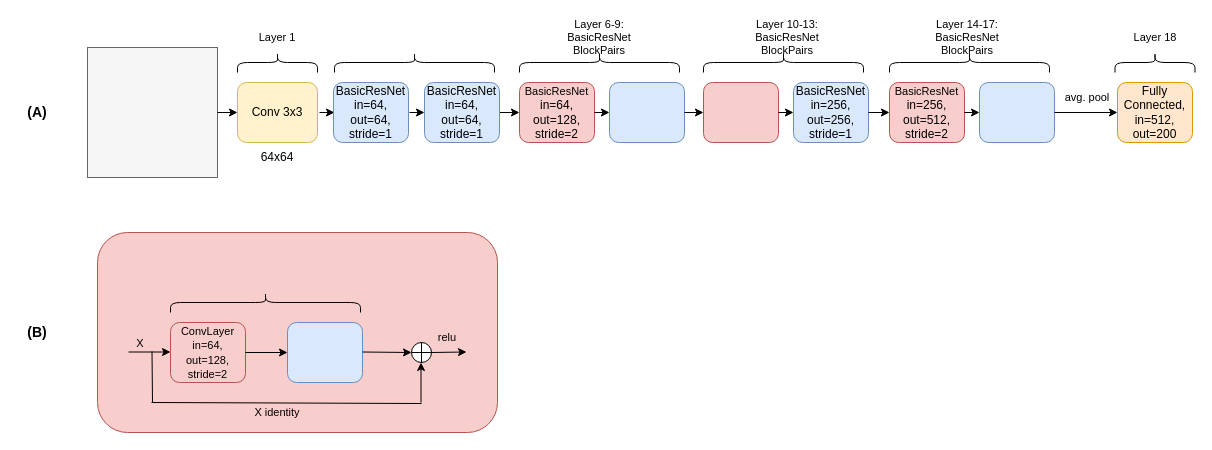
This 1212x450 diagram has some shape labels left out. The shapes that lost their labels are listed below. From the top down, each one's centre as x and y in pixels, then its label:
pixel 414 62: Layer 2-5: BasicResNet BlockPairs
pixel 152 112: input image 64x64
pixel 646 112: BasicResNet in=128, out=128, stride=1
pixel 740 112: BasicResNet in=128, out=256, stride=2
pixel 1016 112: BasicResNet in=512, out=512, stride=1
pixel 265 302: BasicResNet Block Layer n, n+1 e.g., in=64, out=128
pixel 324 352: ConvLayer in=128, out=128, stride=1
